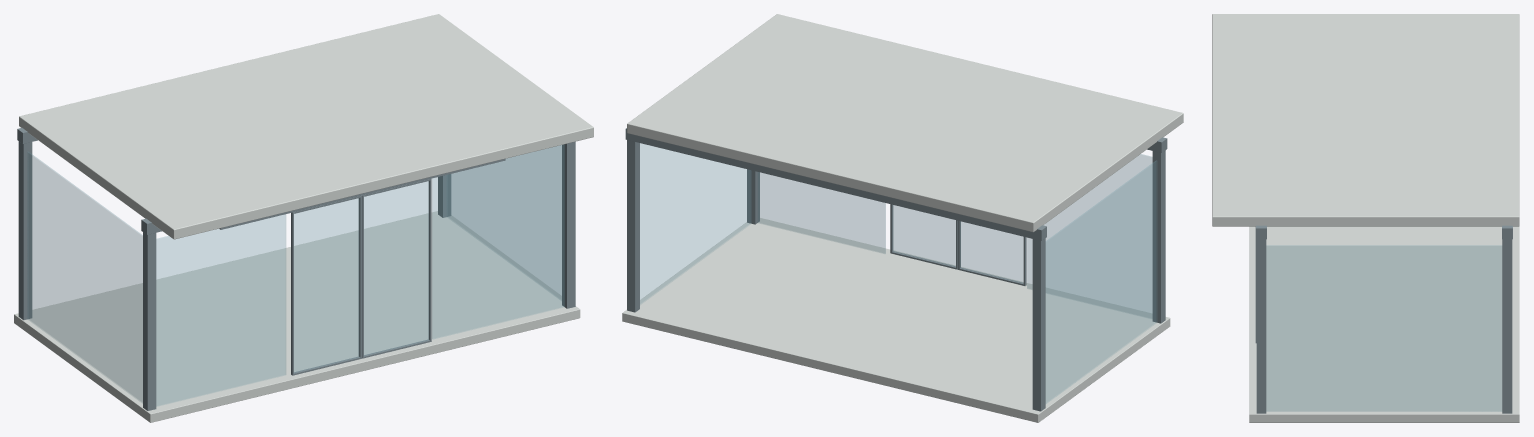
File: edited.glb
3 views of the same model, side by side, from view 1: azimuth 30°, elevation 25°; view 2: azimuth 150°, elevation 25°; view 3: azimuth 270°, elevation 25° (orthographic). The views are drawn at different scales.
Parts seen in each view (by area): view 1: CANOPY, FLOOR, FRONT_FixedPane.001, FRONT_FixedPane, WALL_ClearSide, WALL_ClearSide.001, DOOR_Clear, DOOR_Clear.001, FRAME_Column.001, FRAME_Column, FRAME_Column.002, DOOR_Track (+3 smaller); view 2: CANOPY, FLOOR, WALL_ClearSide, FRONT_FixedPane, WALL_ClearSide.001, FRONT_FixedPane.001, HEADER.001, DOOR_Clear, DOOR_Clear.001, FRAME_Column.001, FRAME_Column, FRAME_Column.003 (+1 smaller); view 3: CANOPY, FLOOR, WALL_ClearSide.001, FRAME_Column.002, FRAME_Column.003.
Part boxes in pixels (<box>): CANOPY: <box>19,14,593,239</box>; FLOOR: <box>14,211,580,422</box>; FRONT_FixedPane.001: <box>432,144,564,338</box>; FRONT_FixedPane: <box>156,214,285,406</box>; WALL_ClearSide: <box>27,152,142,402</box>; WALL_ClearSide.001: <box>447,145,561,300</box>; DOOR_Clear: <box>294,198,359,372</box>; DOOR_Clear.001: <box>364,181,428,355</box>; FRAME_Column.001: <box>18,141,32,320</box>; FRAME_Column: <box>143,232,156,410</box>; FRAME_Column.002: <box>562,141,575,308</box>; DOOR_Track: <box>219,158,505,229</box>; CANOPY: <box>627,14,1183,232</box>; FLOOR: <box>622,218,1170,422</box>; WALL_ClearSide: <box>1046,160,1156,403</box>; FRONT_FixedPane: <box>1027,154,1152,318</box>; WALL_ClearSide.001: <box>640,143,751,304</box>; FRONT_FixedPane.001: <box>758,172,885,253</box>; HEADER.001: <box>625,128,1046,240</box>; DOOR_Clear: <box>960,221,1023,282</box>; DOOR_Clear.001: <box>893,205,955,266</box>; FRAME_Column.001: <box>1032,238,1045,411</box>; FRAME_Column: <box>1152,150,1165,323</box>; FRAME_Column.003: <box>627,140,639,312</box>; CANOPY: <box>1212,14,1519,226</box>; FLOOR: <box>1249,226,1519,422</box>; WALL_ClearSide.001: <box>1266,245,1501,411</box>; FRAME_Column.002: <box>1256,239,1266,413</box>; FRAME_Column.003: <box>1502,239,1512,413</box>.
Size of the model in its own units: 8 by 3.66 by 5.
